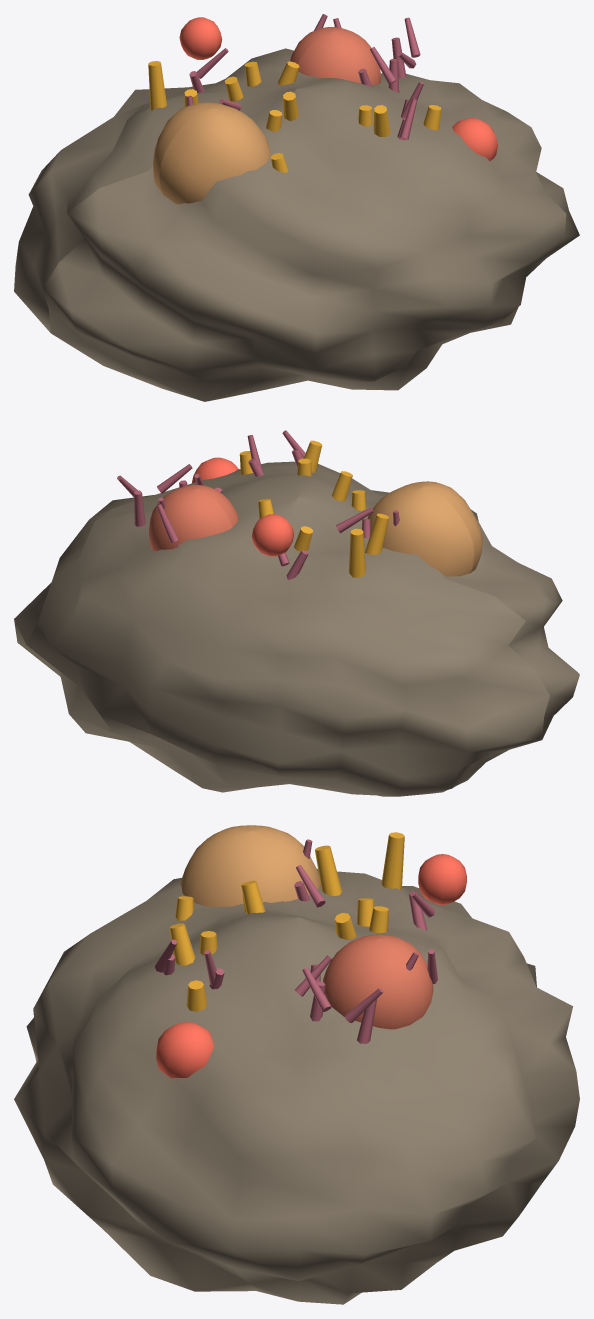
The model's file is reef_mound.glb.
The picture shows the model from 3 angles, top to bottom: view 1: azimuth 30°, elevation 25°; view 2: azimuth 150°, elevation 25°; view 3: azimuth 270°, elevation 25°; orthographic projection. The views are drawn at different scales.
Parts seen in each view (by area): view 1: Coral reef; view 2: Coral reef; view 3: Coral reef.
Boxes of the visible parts, box(x1,y1,x2,y2) form: Coral reef: box(14, 14, 579, 401); Coral reef: box(14, 430, 579, 796); Coral reef: box(14, 825, 579, 1304).
Bounding box in the file's own units: 4.33 × 2.51 × 3.54.
